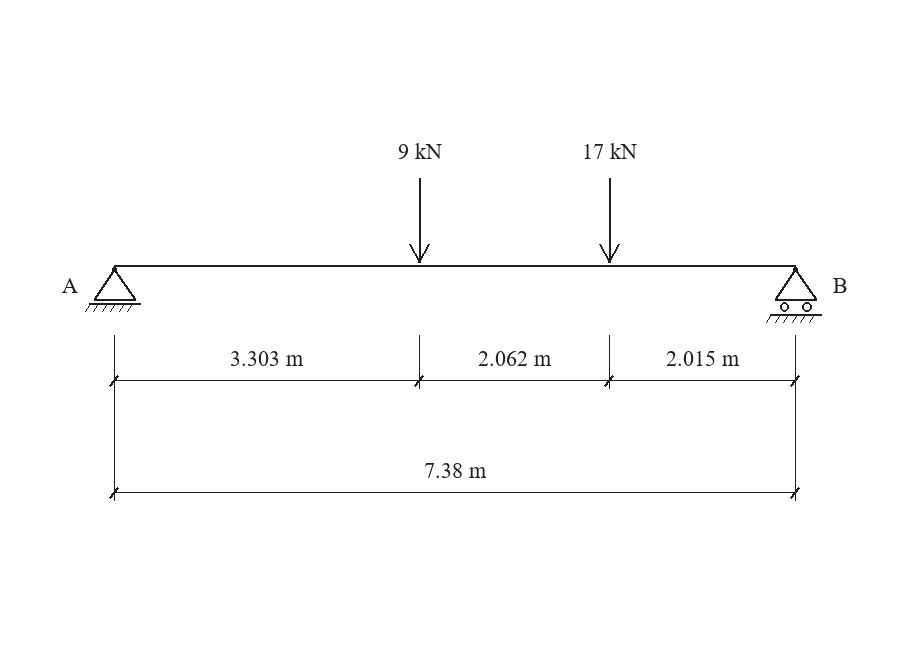pin_support: (85, 267, 141, 312)
point_load: (409, 178, 430, 263), (599, 178, 620, 263)
roller_support: (766, 267, 822, 323)
